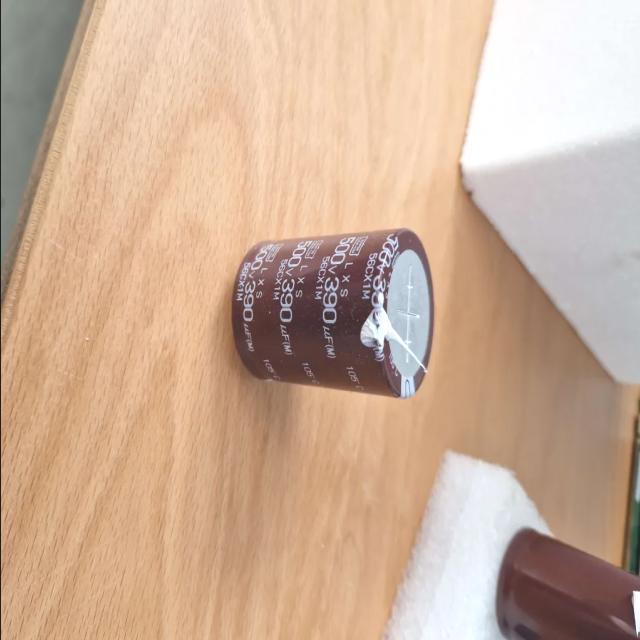C: (232, 228, 432, 398), (496, 529, 640, 640)
